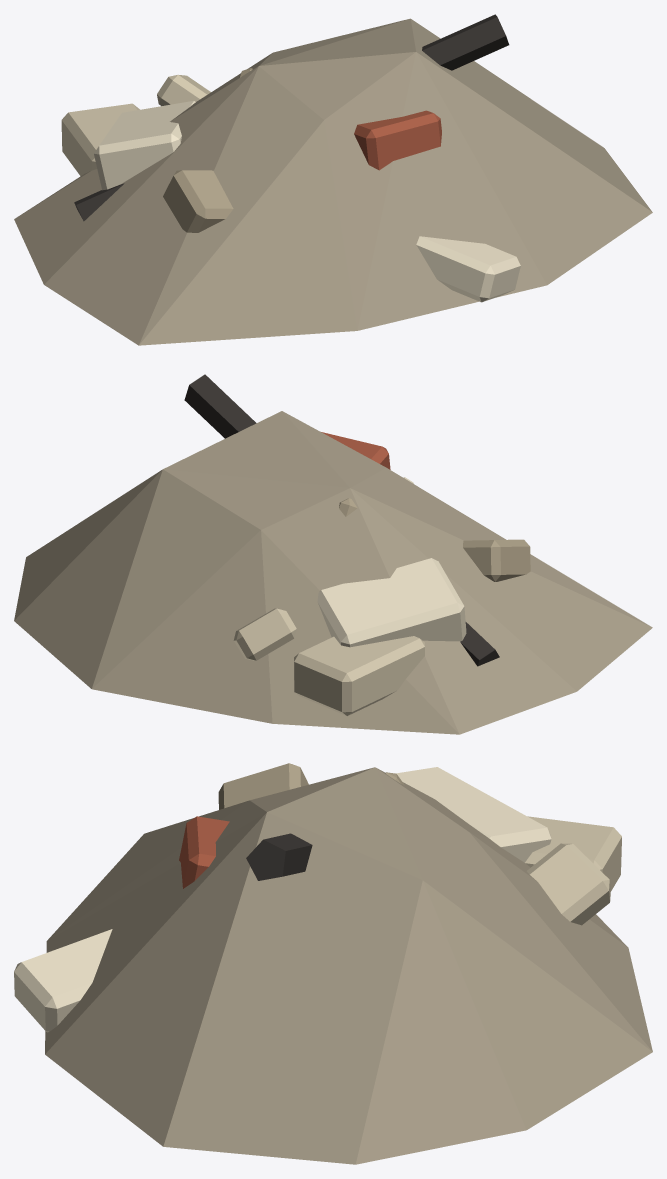
Rendered from rubble_pile.glb.
3 views of the same model, one above another, from view 1: azimuth 30°, elevation 25°; view 2: azimuth 150°, elevation 25°; view 3: azimuth 270°, elevation 25° (orthographic). The views are drawn at different scales.
Visible parts, largest first — view 1: LOD0; view 2: LOD0; view 3: LOD0.
Part boxes in pixels (box(x1,y1,x2,y2)): LOD0: box(14, 14, 652, 345); LOD0: box(14, 374, 652, 734); LOD0: box(14, 763, 652, 1164).
Size of the model in its own units: 3.6 by 1.2 by 2.89.
Materials: 1 (1 with a texture image).
